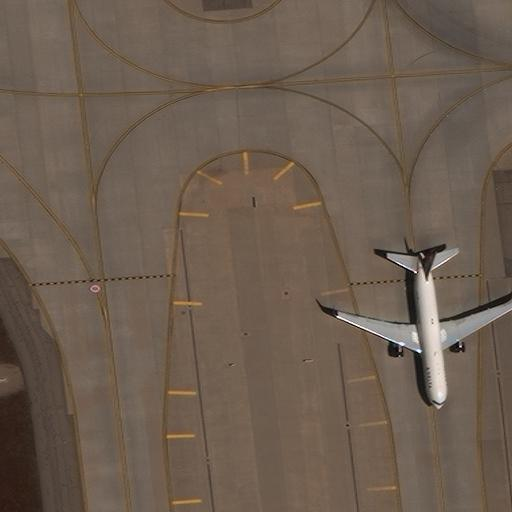Large Civil Transport: (334, 246, 512, 409)
